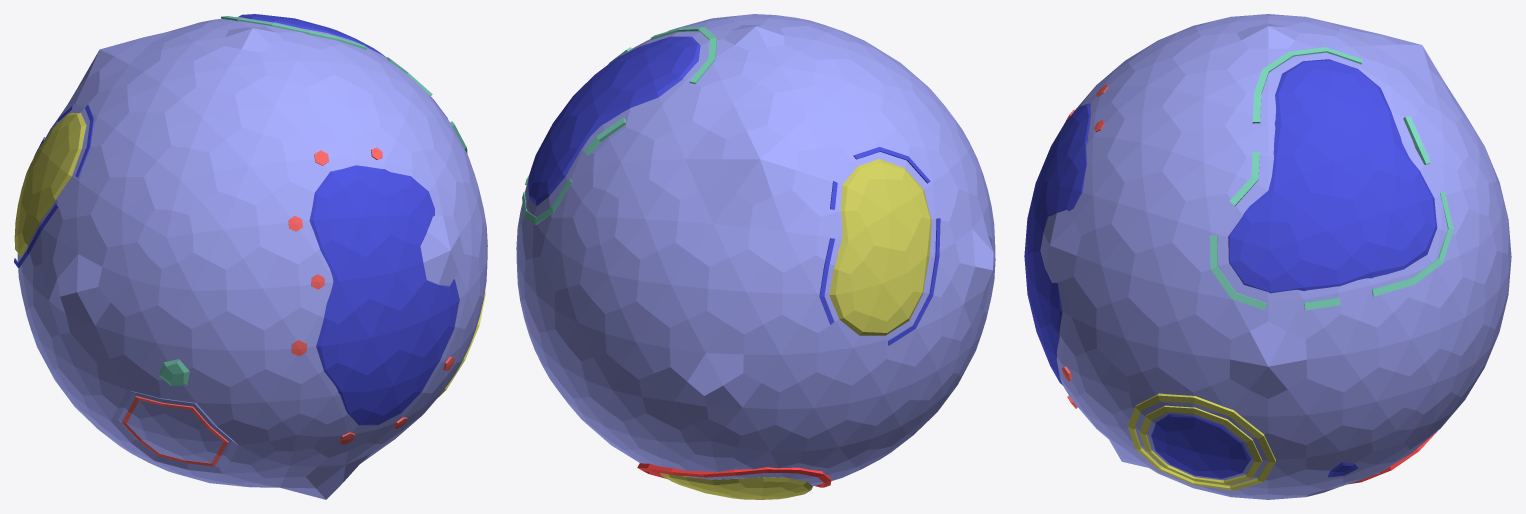
The model's file is star sphere 1.fbx.
3 renders of one model, left to right at view 1: azimuth 30°, elevation 25°; view 2: azimuth 150°, elevation 25°; view 3: azimuth 270°, elevation 25°, orthographic. The views are drawn at different scales.
Visible parts, largest first — view 1: Sphere; view 2: Sphere; view 3: Sphere.
Part boxes in pixels (box(x1,y1,x2,y2)): Sphere: box(14, 14, 487, 499); Sphere: box(516, 14, 995, 499); Sphere: box(1024, 14, 1511, 499).
Size of the model in its own units: 206 by 203 by 196.
